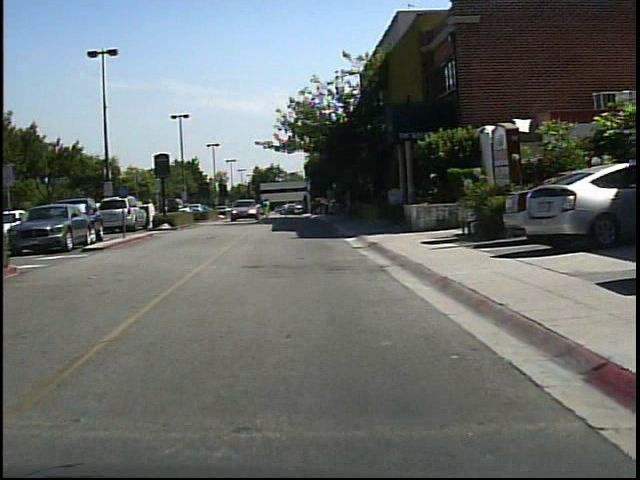person: (156, 193, 172, 228), (258, 194, 273, 224)
